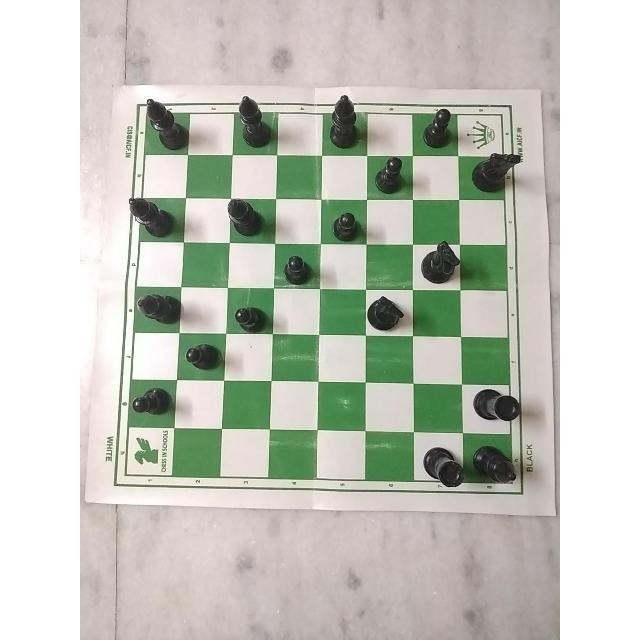black-bishop: (140, 87, 190, 155), (468, 440, 524, 496), (319, 92, 370, 150), (124, 187, 178, 239), (235, 85, 276, 148), (129, 286, 182, 334), (224, 194, 267, 246)
black-knight: (470, 145, 526, 194), (414, 240, 465, 289), (361, 294, 415, 333)
black-pawn: (415, 103, 456, 155), (368, 154, 412, 198), (129, 384, 180, 421), (178, 336, 225, 376), (327, 198, 365, 245), (279, 246, 323, 286), (231, 299, 271, 331)
black-rook: (417, 443, 468, 497), (469, 384, 523, 431)
